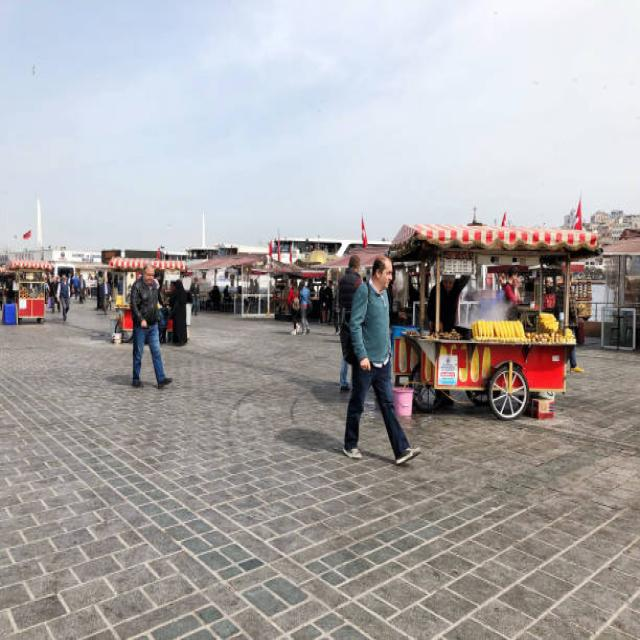Emperan: (343, 212, 608, 439)
